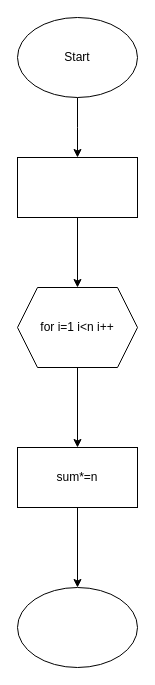
Image size: 155x685. Some labels were removed from this diagram. Each missing label, with the centre of its shape:
end: the point at 77,627
int sum=1 int n: the point at 77,187
